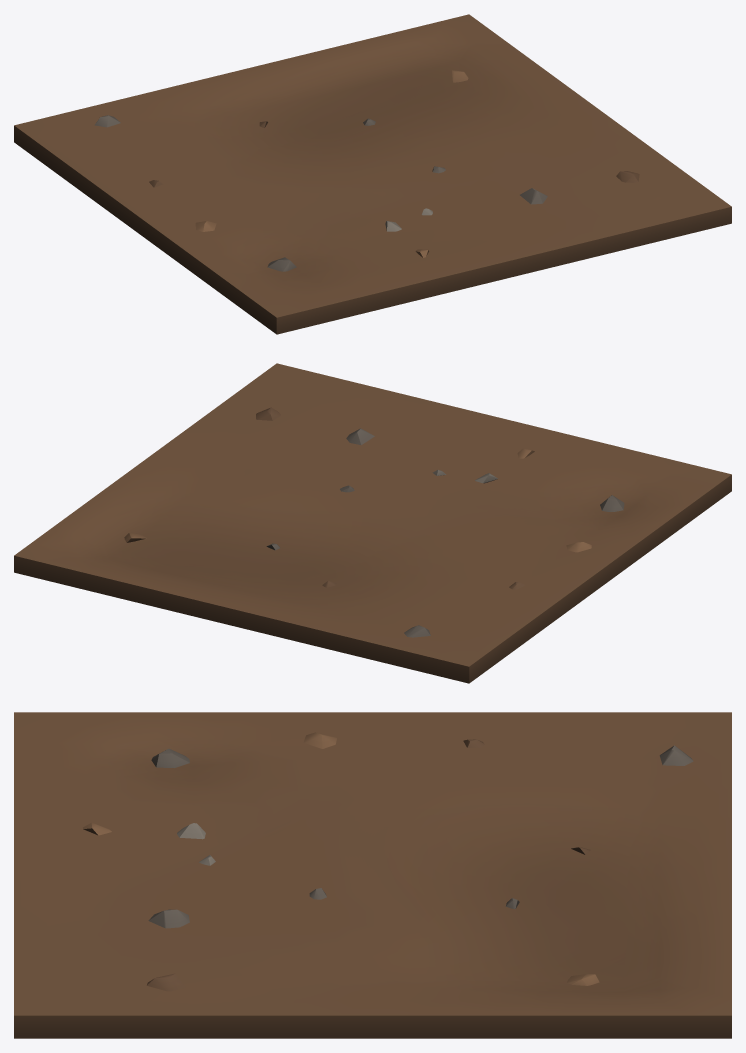
File: floor_earth_large_D.glb
3 views of the same model, one above another, from view 1: azimuth 30°, elevation 25°; view 2: azimuth 150°, elevation 25°; view 3: azimuth 270°, elevation 25° (orthographic). The views are drawn at different scales.
Parts seen in each view (by area): view 1: Item; view 2: Item; view 3: Item.
Boxes of the visible parts, x1=… form: Item: x1=14, y1=14, x2=731, y2=334; Item: x1=14, y1=363, x2=731, y2=683; Item: x1=14, y1=712, x2=731, y2=1038.
Bounding box in the file's own units: 4 × 0.2188 × 4.
Materials: 1 (1 with a texture image).
